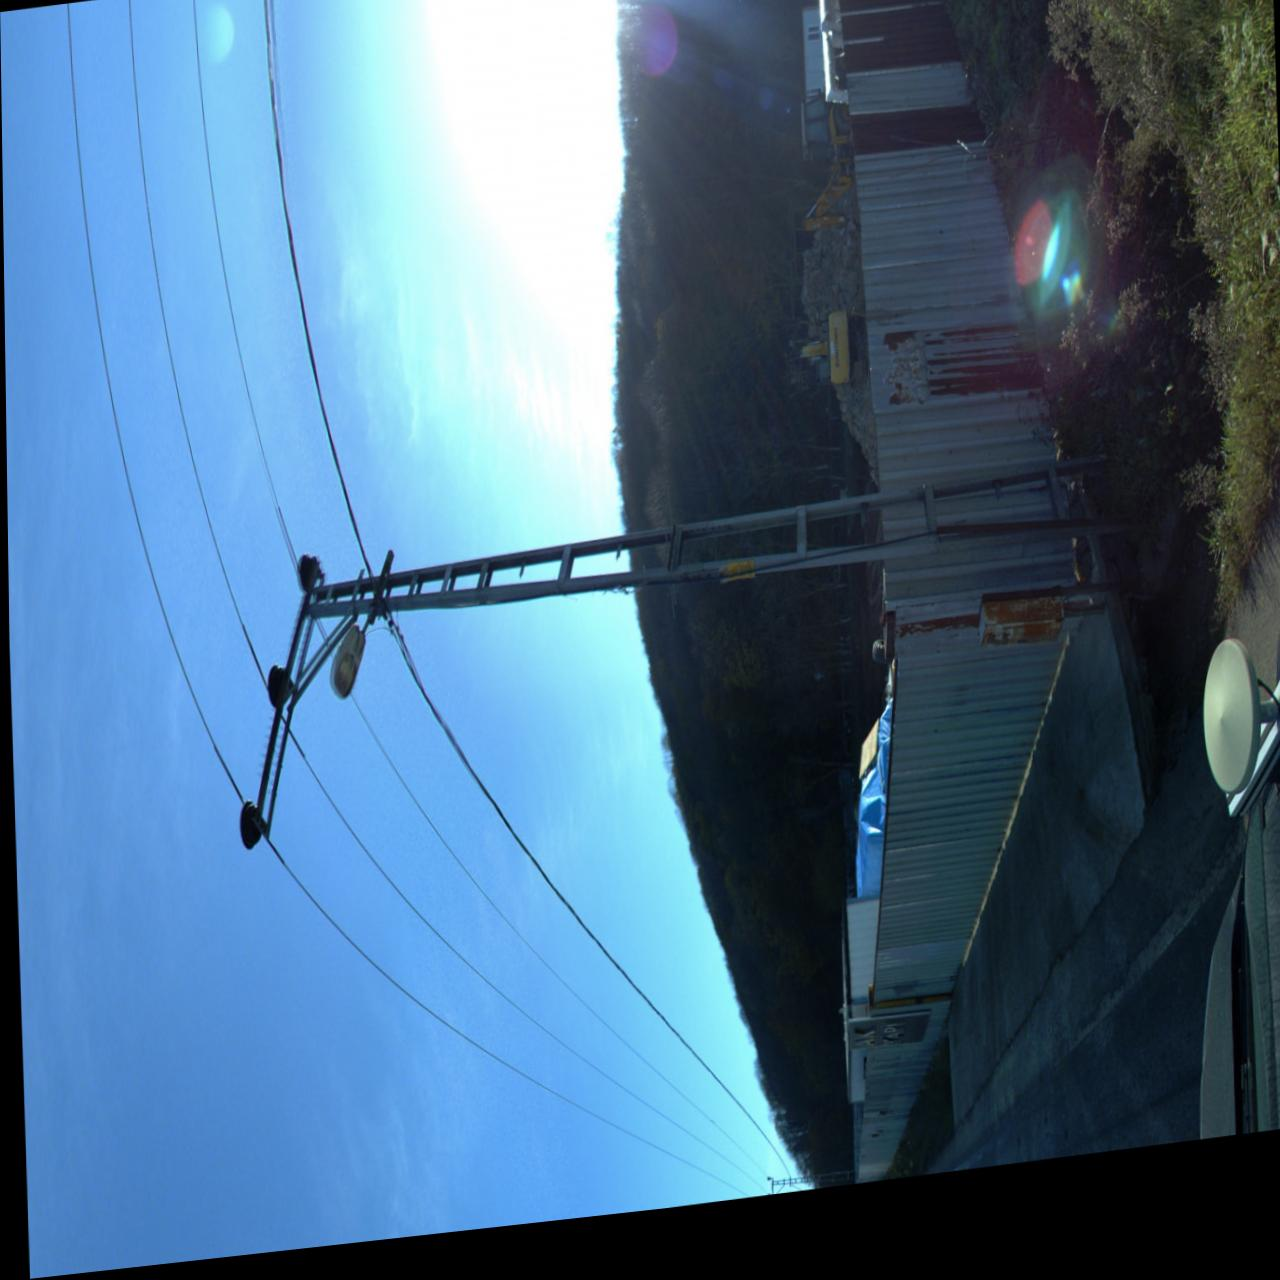Utility Pole Information Plate: (721, 577, 754, 600)
